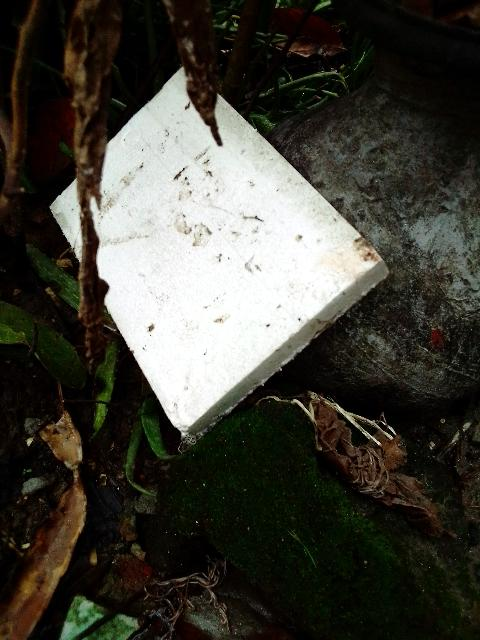cocksheet: (0, 69, 383, 452)
